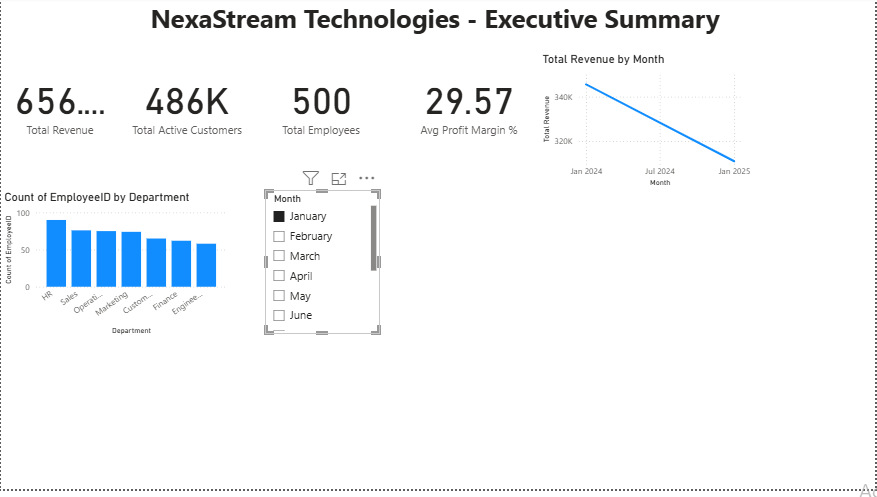

Layout of this report page (visuals, bound fields, positions):
{"tool":"powerbi","page":{"name":"Executive Summary","canvas":[1280,720],"ordinal":4},"visuals":[{"type":"textbox","box":[41,0,1188.3,80.5],"z":0},{"type":"card","fields":{"Values":["Finance_Data.Total Revenue"]},"box":[0,80.5,172.7,150.7],"z":1},{"type":"card","fields":{"Values":["Customer_Data.Total Active Customers"]},"box":[185.9,80.5,172.7,150.7],"z":2},{"type":"card","fields":{"Values":["HR_Data.Total Employees"]},"box":[382,80.5,172.7,150.7],"z":3},{"type":"card","fields":{"Values":["Finance_Data.Avg Profit Margin %"]},"box":[598.5,80.5,172.7,150.7],"z":4},{"type":"lineChart","fields":{"Y":["Finance_Data.Total Revenue"],"Category":["Finance_Data.Month"]},"box":[787.3,80.5,314.6,202],"z":5},{"type":"clusteredColumnChart","fields":{"Category":["HR_Data.Department"],"Y":["CountNonNull(HR_Data.EmployeeID)"]},"box":[0,282.4,335.1,216.6],"z":6},{"type":"slicer","fields":{"Values":["Finance_Data.Month.Variation.Date Hierarchy.Month"]},"box":[386.3,282.4,168.3,210.7],"z":7}]}

Visuals, with their boxes in screenshot pixels (x1, y1, x2, y2), scaled from the page's 1280x720 canvas onto the 877x497 screenshot:
textbox: {"left": 28, "top": 0, "right": 842, "bottom": 56}
card - Finance_Data.Total Revenue: {"left": 0, "top": 56, "right": 118, "bottom": 160}
card - Customer_Data.Total Active Customers: {"left": 127, "top": 56, "right": 246, "bottom": 160}
card - HR_Data.Total Employees: {"left": 262, "top": 56, "right": 380, "bottom": 160}
card - Finance_Data.Avg Profit Margin %: {"left": 410, "top": 56, "right": 528, "bottom": 160}
lineChart - Finance_Data.Total Revenue x Finance_Data.Month: {"left": 539, "top": 56, "right": 755, "bottom": 195}
clusteredColumnChart - HR_Data.Department x CountNonNull(HR_Data.EmployeeID): {"left": 0, "top": 195, "right": 230, "bottom": 344}
slicer - Finance_Data.Month.Variation.Date Hierarchy.Month: {"left": 265, "top": 195, "right": 380, "bottom": 340}
